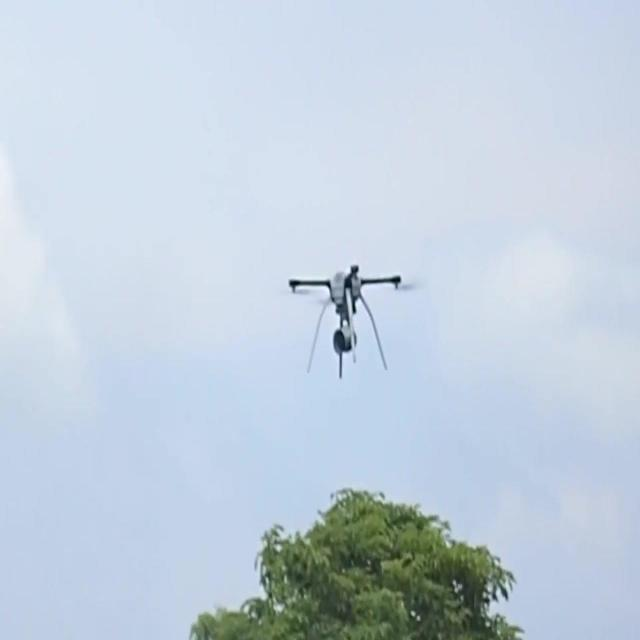UAV: (289, 265, 415, 378)
